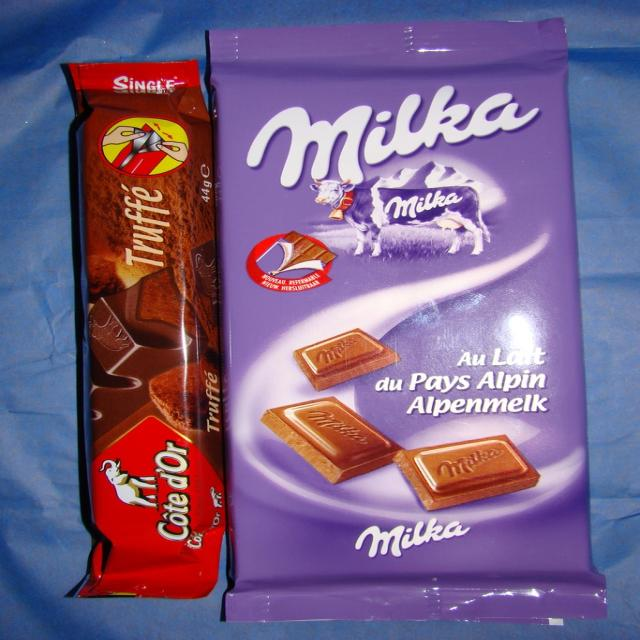milka: (244, 81, 550, 265), (350, 518, 474, 563)
